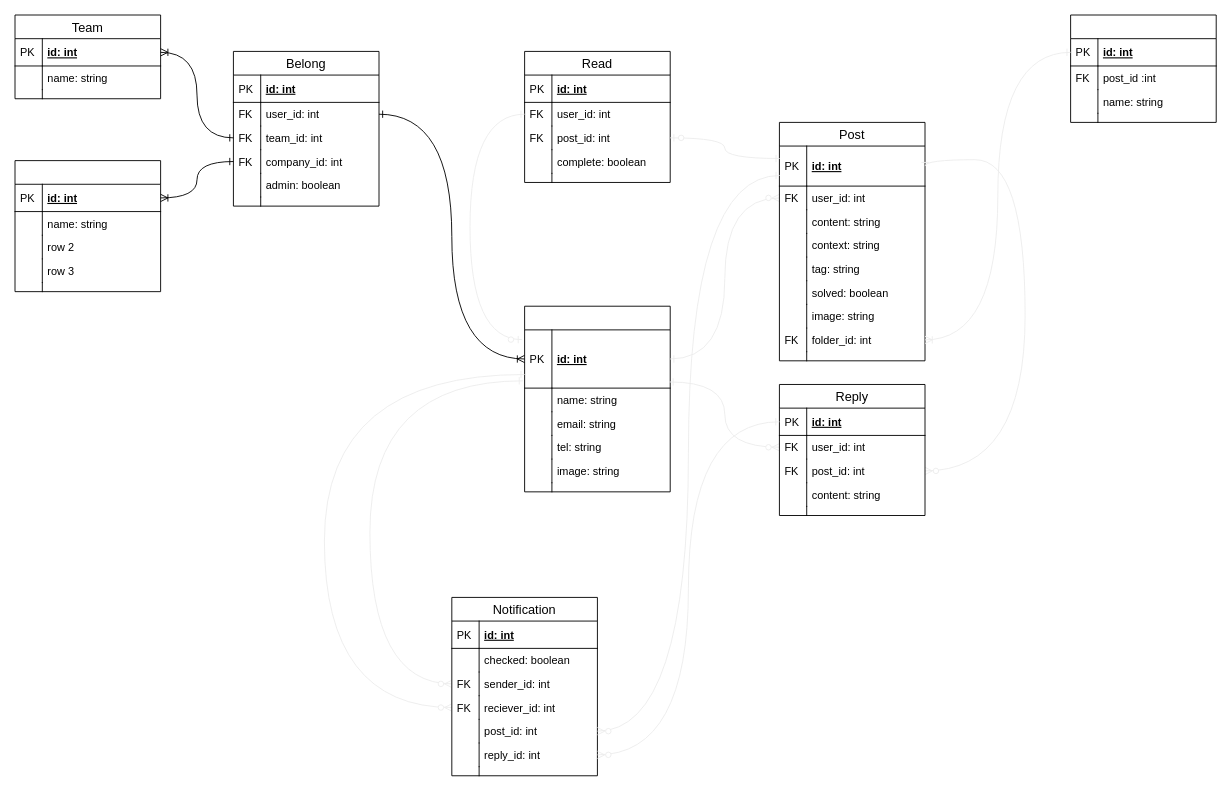
This 1231x791 diagram has some shape labels left out. The box of each missing label's shape, as (x1, y1, x2, y2) in pixels:
Company: (14, 160, 161, 292)
Folder: (1070, 14, 1216, 122)
User: (524, 305, 670, 492)
